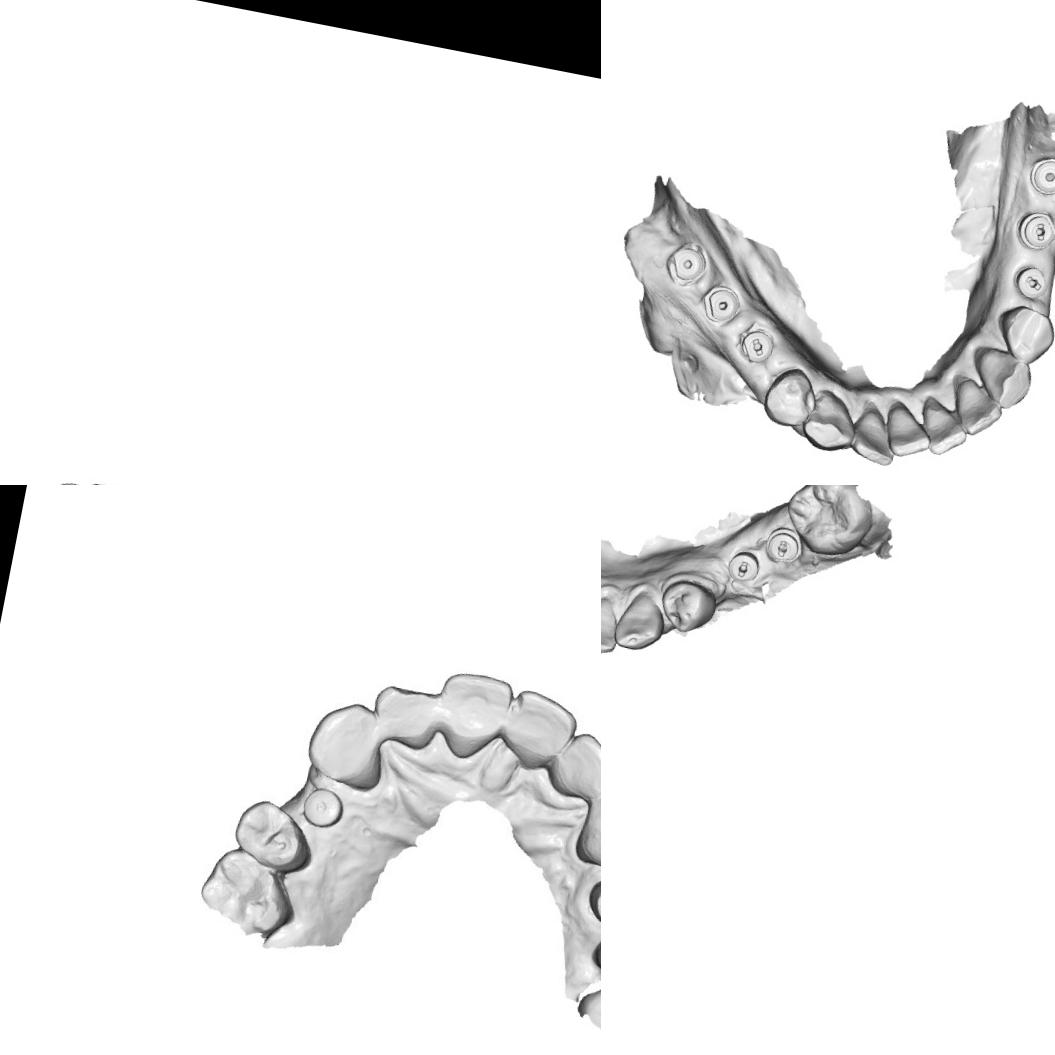canine: (302, 695, 397, 795), (970, 344, 1038, 416), (796, 390, 862, 457), (610, 586, 671, 656), (568, 783, 601, 878)
implant: (294, 778, 352, 841), (659, 236, 712, 292), (698, 281, 744, 329), (1025, 149, 1055, 201)
implant_minus: (732, 322, 780, 368), (760, 522, 806, 570), (1010, 206, 1055, 253), (1006, 260, 1054, 302), (722, 547, 763, 586)
incisor: (433, 663, 522, 757), (499, 683, 581, 775), (362, 674, 446, 759), (944, 375, 1008, 442), (549, 724, 601, 804), (914, 396, 974, 460), (845, 408, 901, 469), (884, 403, 936, 464), (601, 590, 623, 658)
molar: (198, 848, 290, 936), (777, 485, 880, 563)
premolar: (226, 792, 318, 876), (756, 360, 824, 432), (987, 297, 1055, 364), (654, 574, 721, 638), (580, 857, 601, 940)
